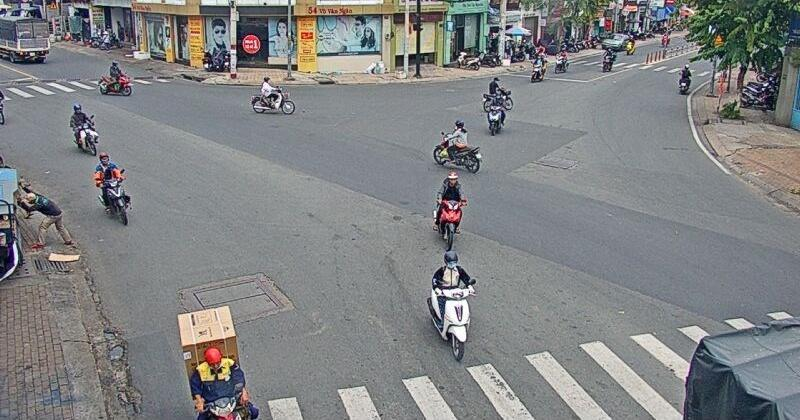xe may: (176, 301, 262, 420), (425, 249, 475, 360), (93, 150, 133, 226), (431, 173, 466, 249), (433, 119, 481, 172), (248, 75, 294, 114), (69, 102, 98, 153), (99, 59, 131, 97), (486, 91, 508, 135)
